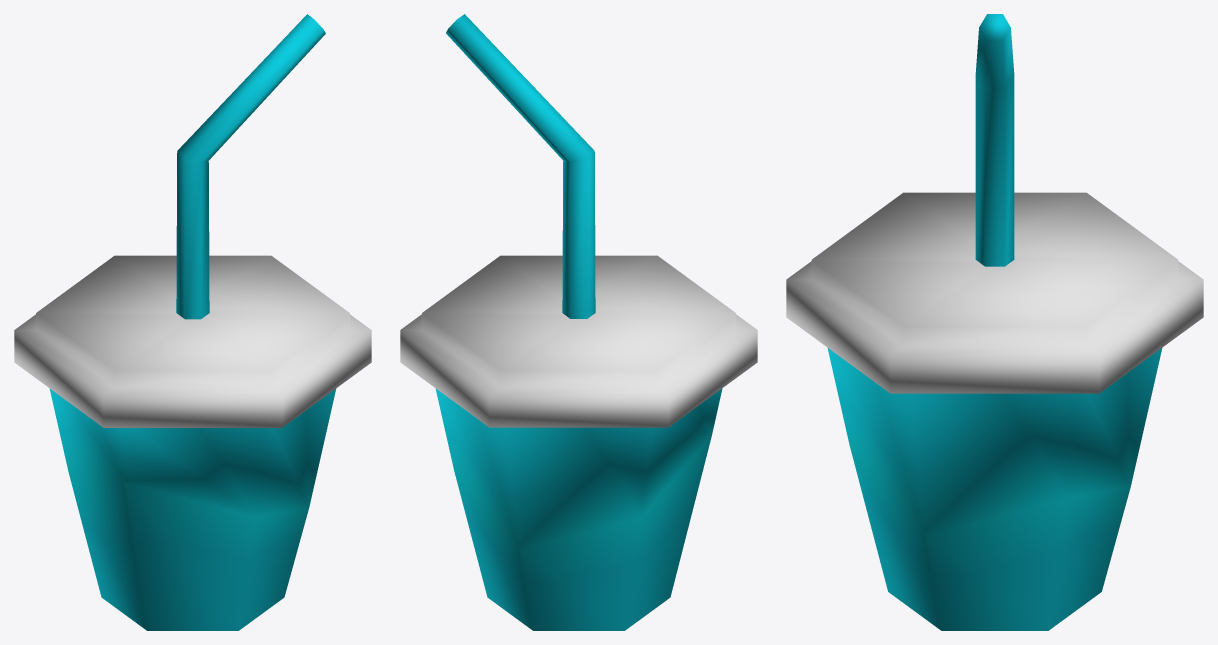
File: CopoRefri.fbx
3 renders of one model, left to right at view 1: azimuth 30°, elevation 25°; view 2: azimuth 150°, elevation 25°; view 3: azimuth 270°, elevation 25°, orthographic. The views are drawn at different scales.
Parts seen in each view (by area): view 1: CopoRefri; view 2: CopoRefri; view 3: CopoRefri.
Boxes of the visible parts, x1,y1,x2,y2 form: CopoRefri: [14, 14, 371, 630]; CopoRefri: [400, 14, 757, 630]; CopoRefri: [786, 14, 1203, 630].
Bounding box in the file's own units: 22.41 × 44.11 × 25.88.
